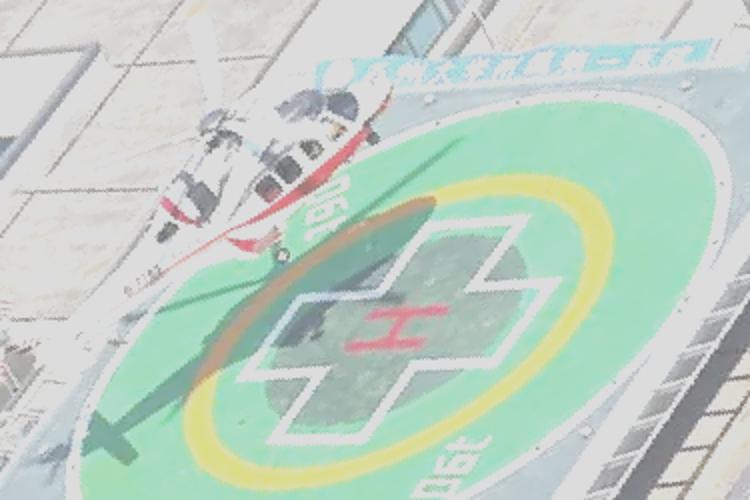Apron: (183, 154, 620, 493)
